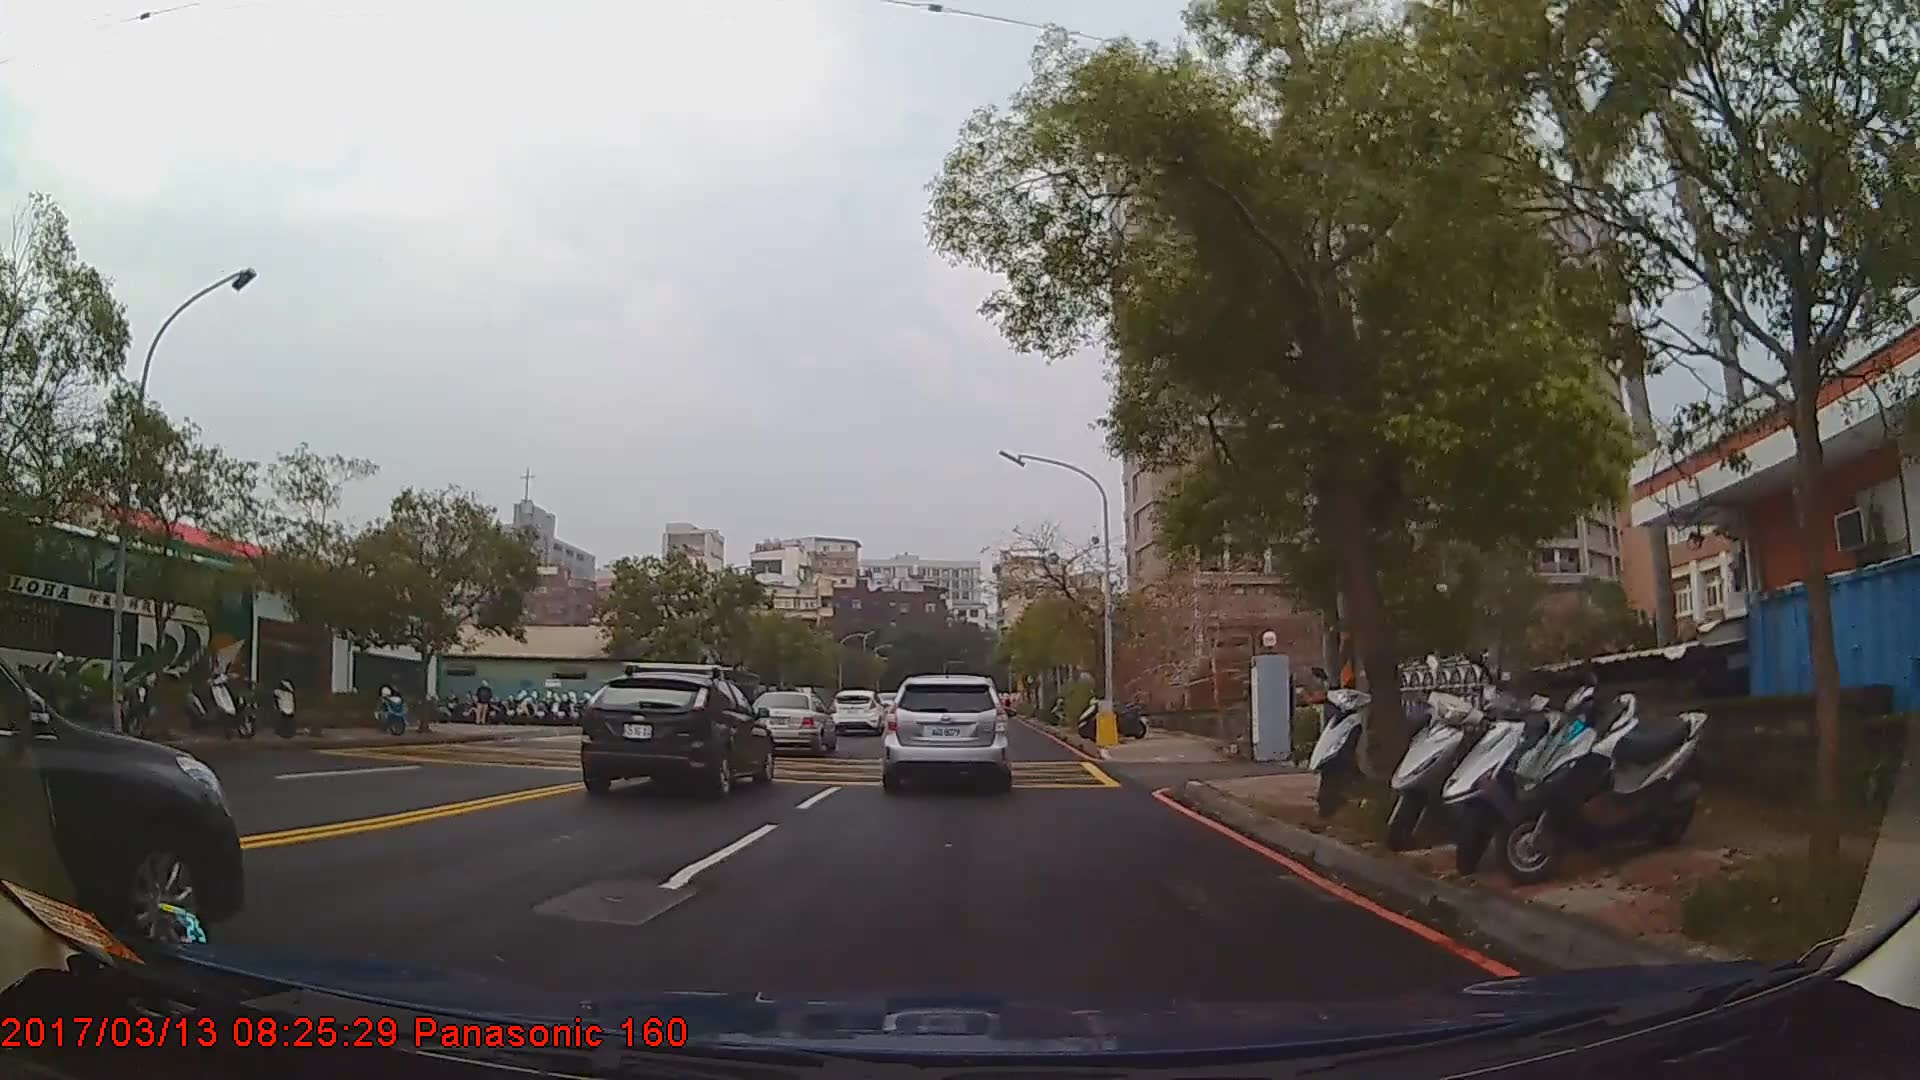vehicle: (0, 644, 245, 940), (0, 498, 251, 735), (578, 669, 771, 799), (884, 673, 1007, 787), (746, 688, 835, 754), (829, 688, 886, 735)
